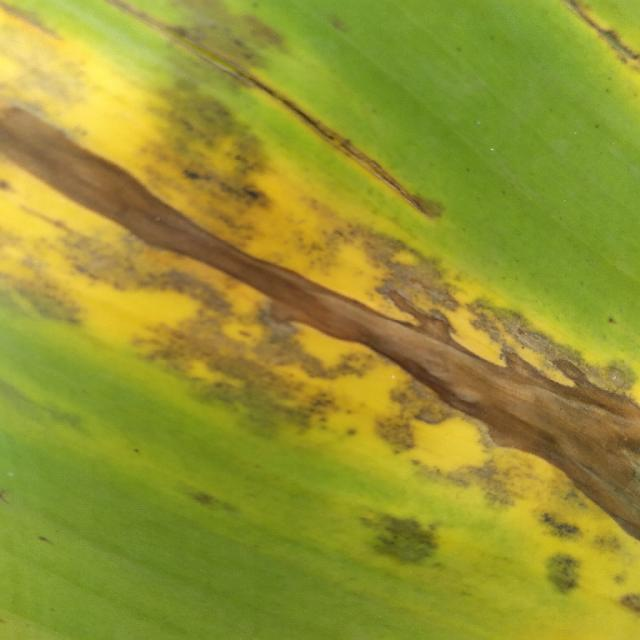Early_rust: (0, 3, 640, 630)
